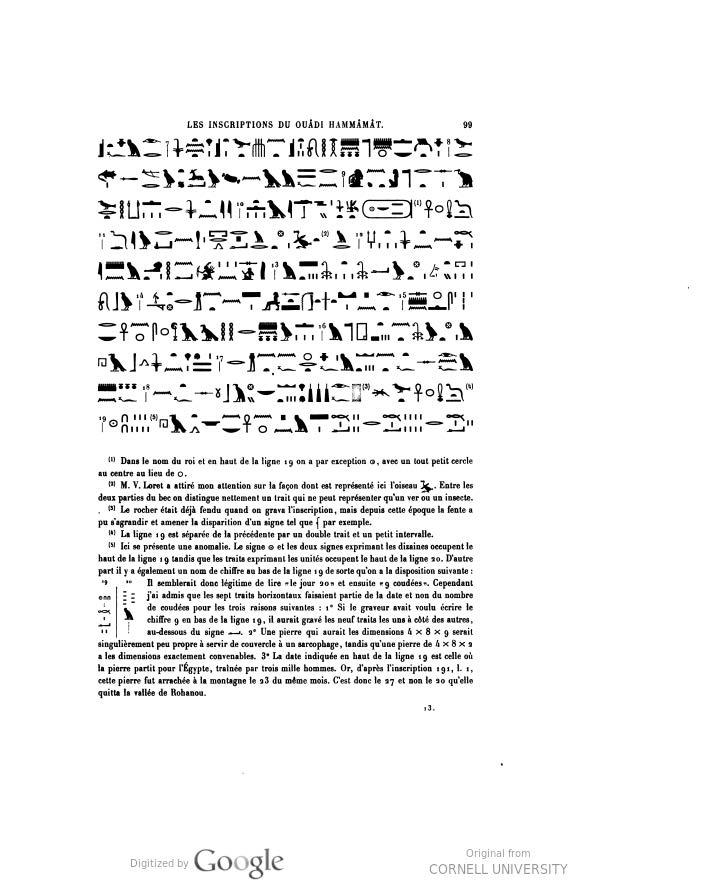circle: (359, 193, 425, 243)
